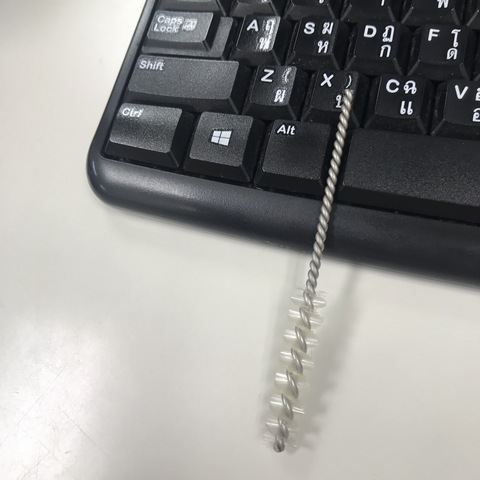Twist Brush-B: (254, 85, 357, 456)
